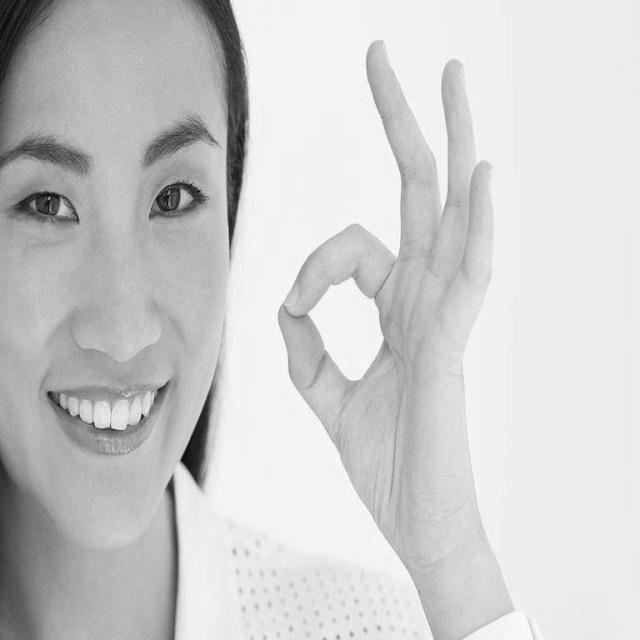perfect: (271, 25, 508, 587)
